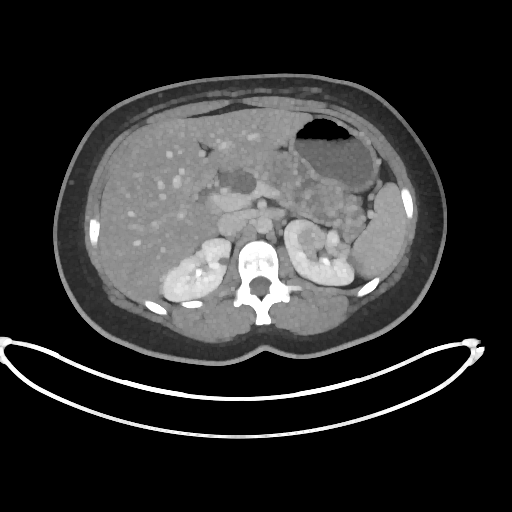Lesion: (294, 222, 327, 253)
